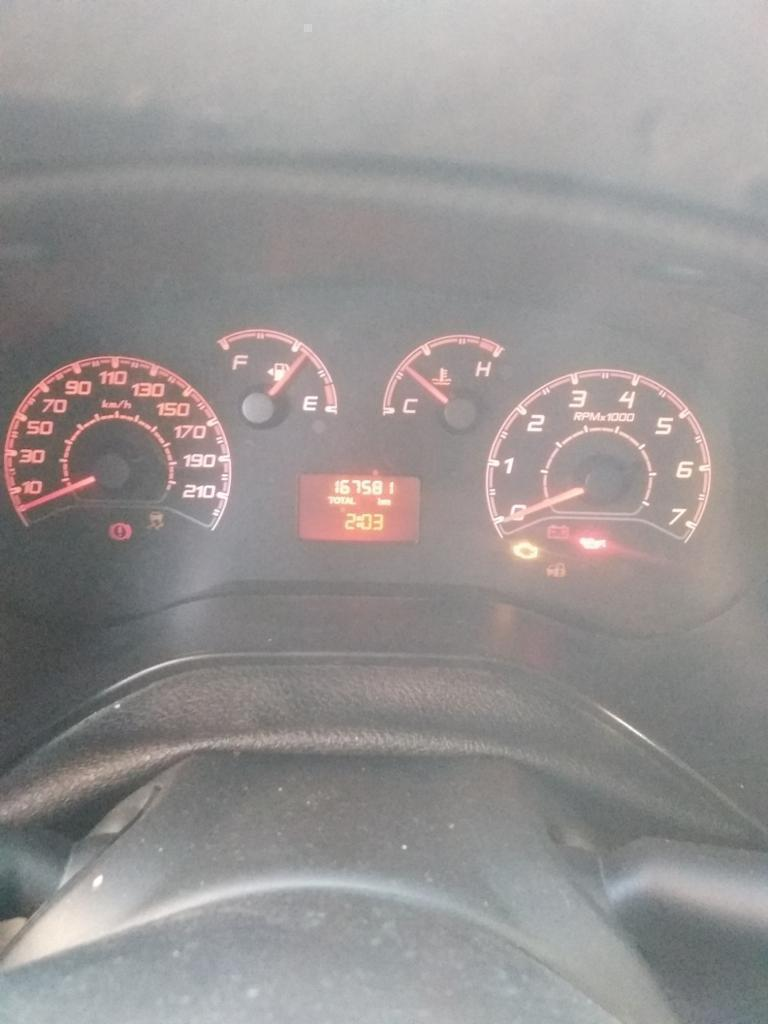0: (361, 512, 372, 530)
1: (387, 480, 395, 495), (332, 478, 339, 495)
2: (343, 512, 355, 530)
3: (372, 513, 384, 531)
5: (361, 478, 371, 496)
6: (339, 478, 350, 495)
7: (350, 478, 361, 495)
8: (372, 479, 382, 495)
X: (355, 515, 361, 529), (327, 495, 334, 504), (382, 499, 392, 505), (376, 496, 382, 505), (349, 497, 355, 505), (334, 496, 340, 504), (345, 496, 350, 505), (340, 496, 345, 504)
odometer: (292, 468, 427, 548)
